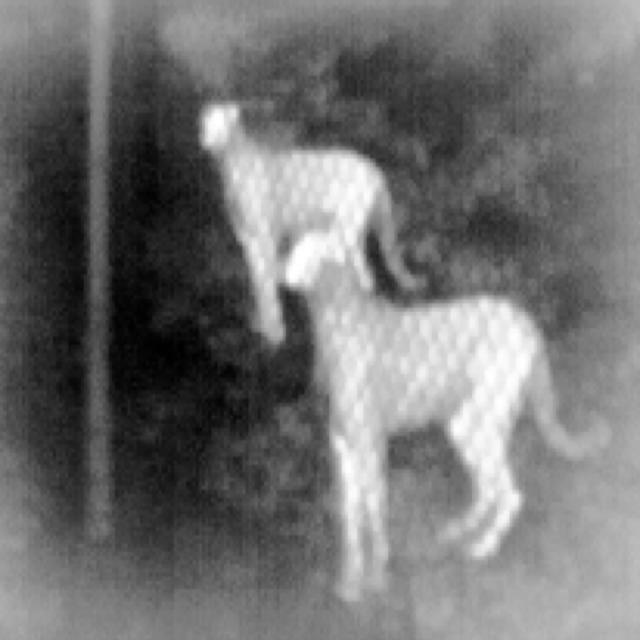cheetah: (286, 221, 610, 601), (202, 105, 426, 347)
